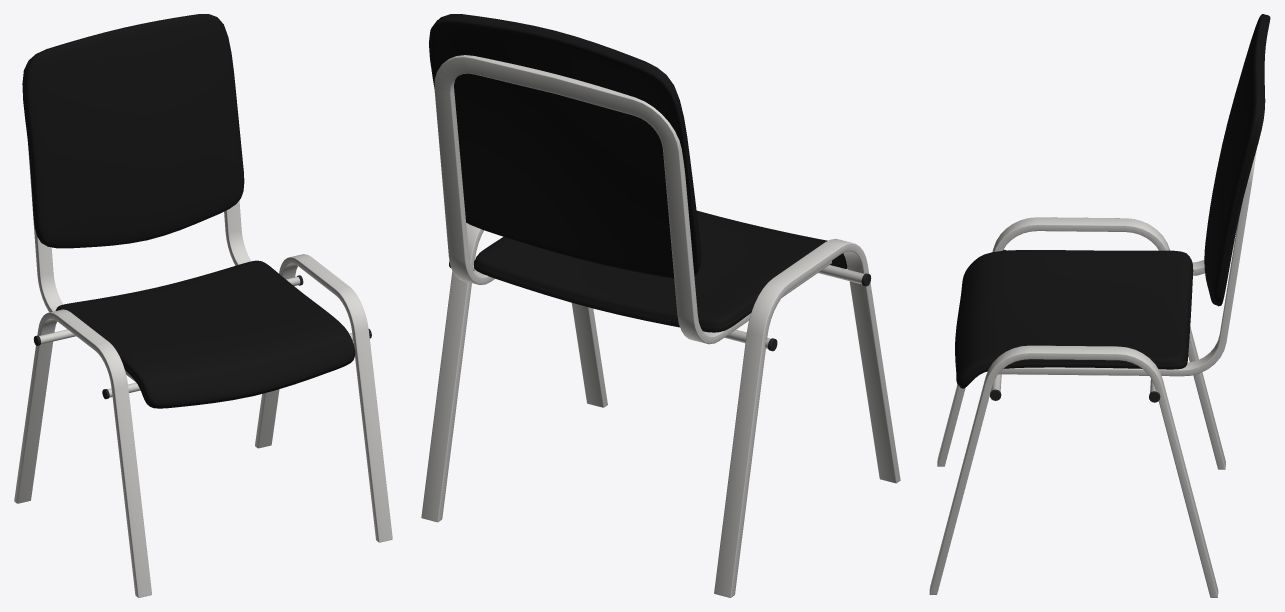
Rendered from Chair.fbx.
3 views of the same model, side by side, from view 1: azimuth 30°, elevation 25°; view 2: azimuth 150°, elevation 25°; view 3: azimuth 270°, elevation 25° (orthographic). The views are drawn at different scales.
Parts seen in each view (by area): view 1: chair; view 2: chair; view 3: chair.
Part boxes in pixels (x1,y1,x2,y2): chair: [14, 14, 392, 597]; chair: [421, 14, 900, 597]; chair: [929, 14, 1270, 597].
Size of the model in its own units: 751 by 1175 by 758.
